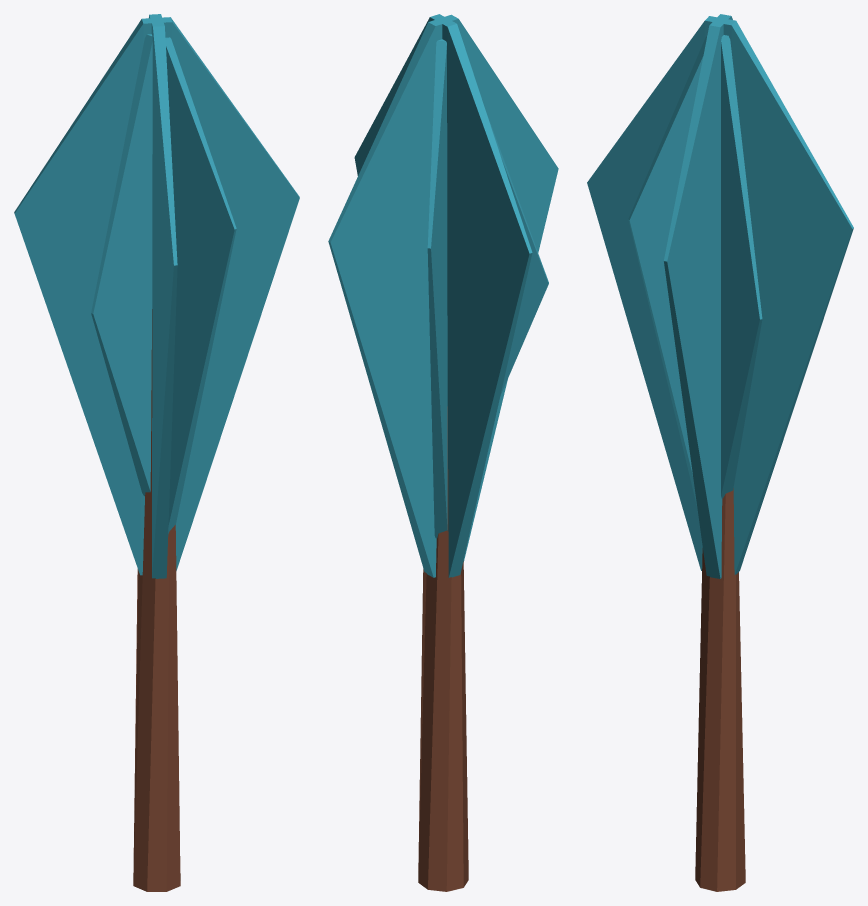
The model's file is Tree_31_summer_blue_mat.fbx.
The picture shows the model from 3 angles, left to right: view 1: azimuth 30°, elevation 25°; view 2: azimuth 150°, elevation 25°; view 3: azimuth 270°, elevation 25°; orthographic projection.
Parts seen in each view (by area): view 1: Tree_31_summer_blue_mat; view 2: Tree_31_summer_blue_mat; view 3: Tree_31_summer_blue_mat.
Boxes of the visible parts, <box> form: Tree_31_summer_blue_mat: <box>14,14,299,891</box>; Tree_31_summer_blue_mat: <box>328,14,558,891</box>; Tree_31_summer_blue_mat: <box>587,14,853,891</box>.
Size of the model in its own units: 84.61 by 301 by 84.61.
